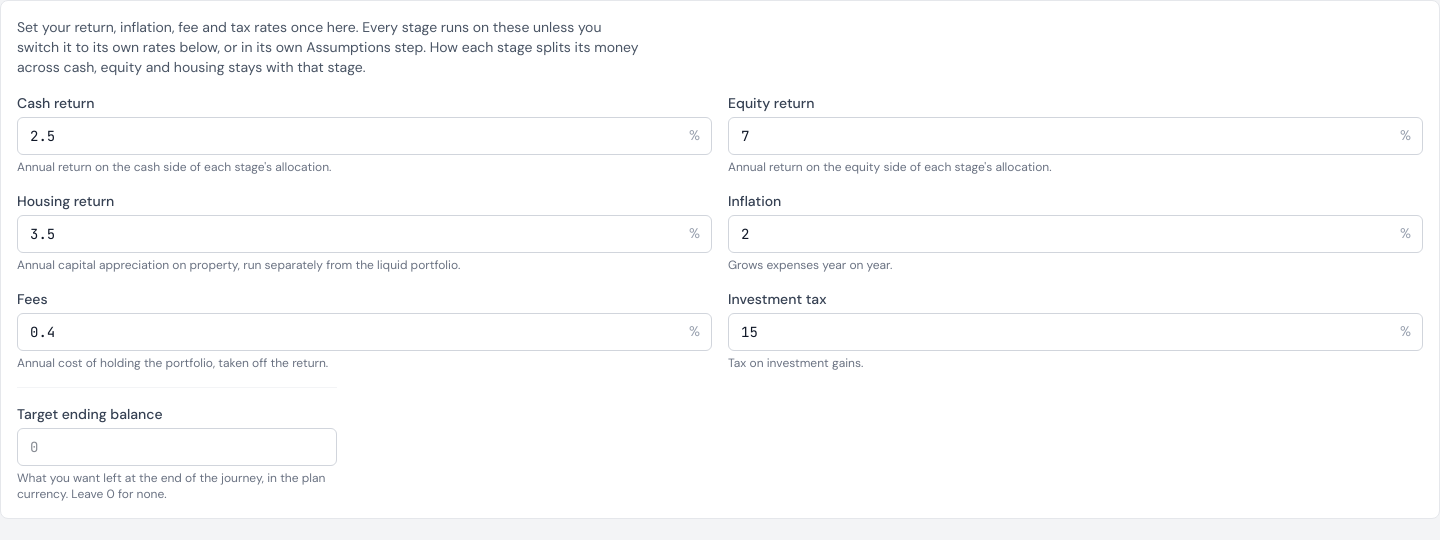
JourneyAssumptionsSection › allows a negative return but not a negative fee
This screenshot has width=1440, height=540.
Replace the text in the number field labelled "Equity return" with "-2" at (1076,136), box [728,117,1423,155]
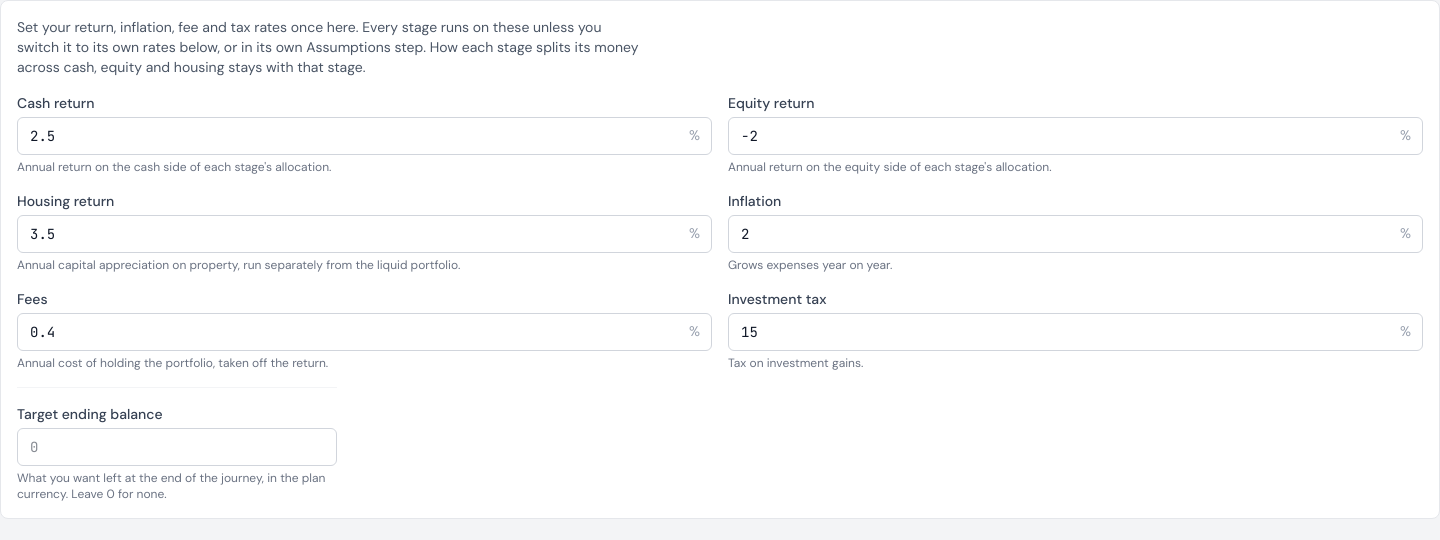
Replace the text in the number field labelled "Fees" with "-1" at (364,332), box [17,313,712,351]
Wait 1000 ms
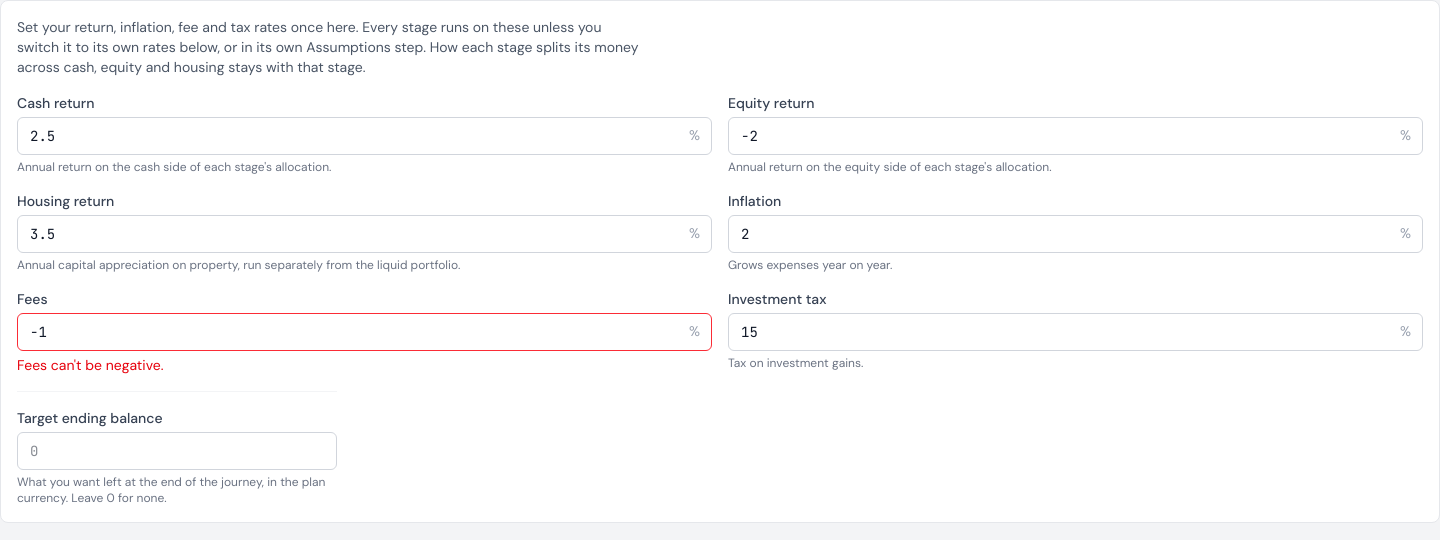
expect the text "Fees can't be negative." is shown: met, box [17,356,164,374]
